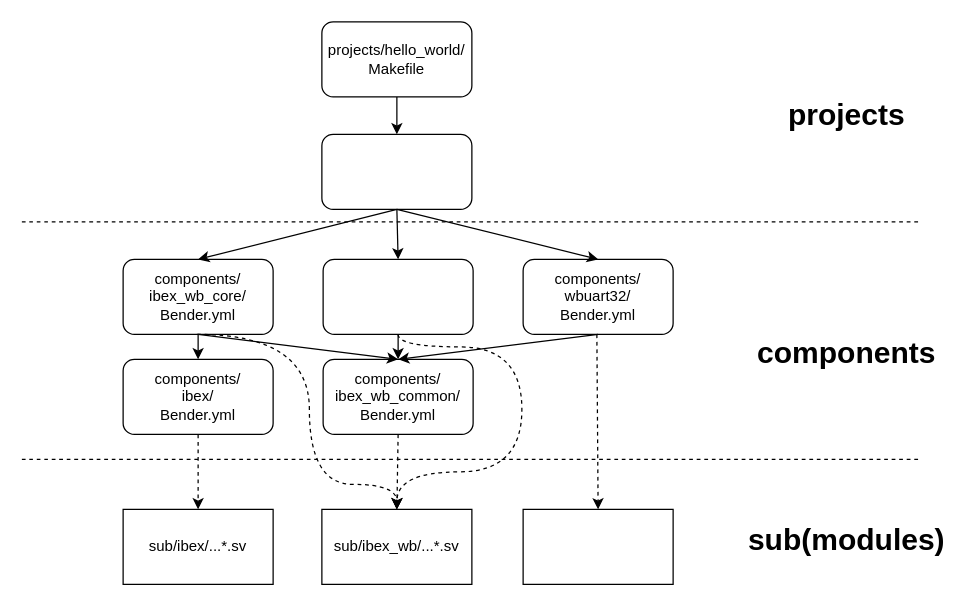
The diagram is 966 pixels wide and 606 high, and some of its shapes have lost their labels. The shapes that lost their labels are listed below. From the top down, each one's centre as x and y in pixels, then its label:
pixel 396 171: projects/hello_world/ Bender.yml
pixel 397 296: components/ wb_gpio/ Bender.yml
pixel 597 546: sub/wbuart32/...*.v
